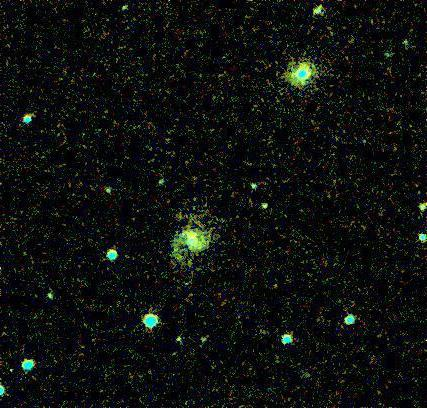star: (0, 355, 27, 385)
